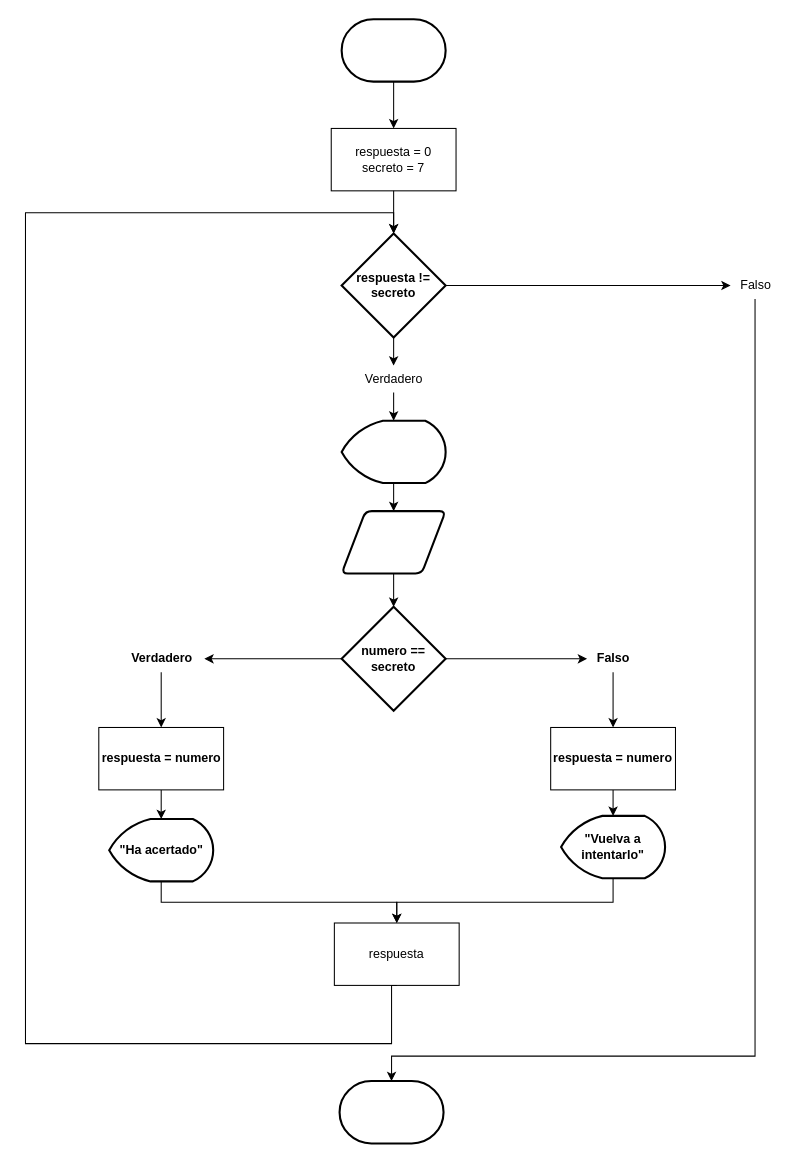
Image size: 798x1162. Some labels were removed from this diagram. The shapes that lost their labels are listed below. From the top down, each one's centre as x and y in pixels, then its label:
the point at 393,50: Inicio
the point at 393,451: "Ingrese un numero"
the point at 393,542: numero
the point at 391,1112: Fin
